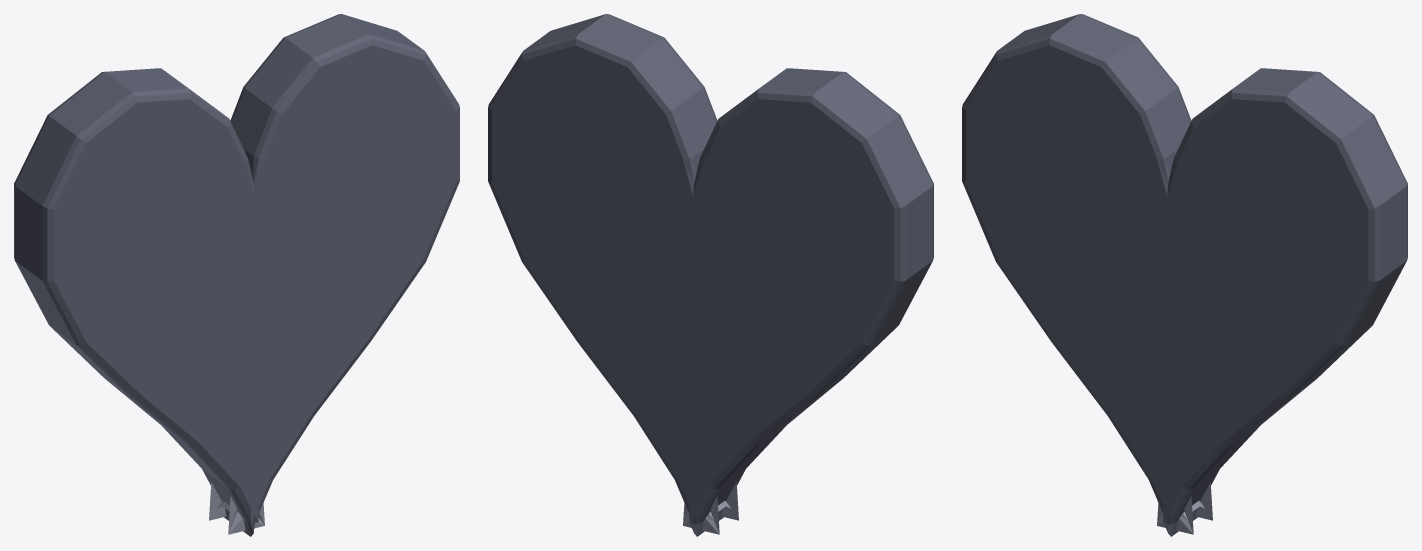
Rendered from game-ui-icon-library-heart-empty-82eacbe0__18983.glb.
The picture shows the model from 3 angles, left to right: view 1: azimuth 30°, elevation 25°; view 2: azimuth 150°, elevation 25°; view 3: azimuth 330°, elevation 25°; orthographic projection.
Visible parts, largest first — view 1: heart-empty; view 2: heart-empty; view 3: heart-empty.
Part boxes in pixels (x1=…): heart-empty: x1=14, y1=14, x2=459, y2=536; heart-empty: x1=488, y1=14, x2=933, y2=536; heart-empty: x1=962, y1=14, x2=1407, y2=536.
Size of the model in its own units: 0.8652 by 0.94 by 0.1286.
